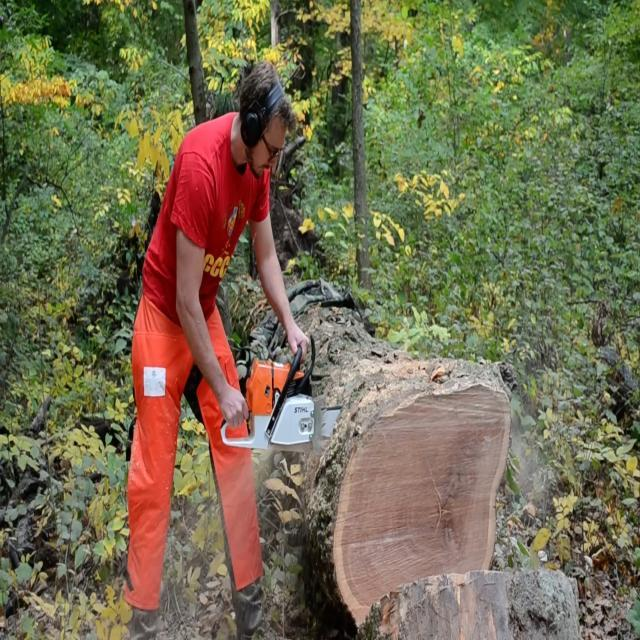Chainsaw: (198, 338, 362, 462)
